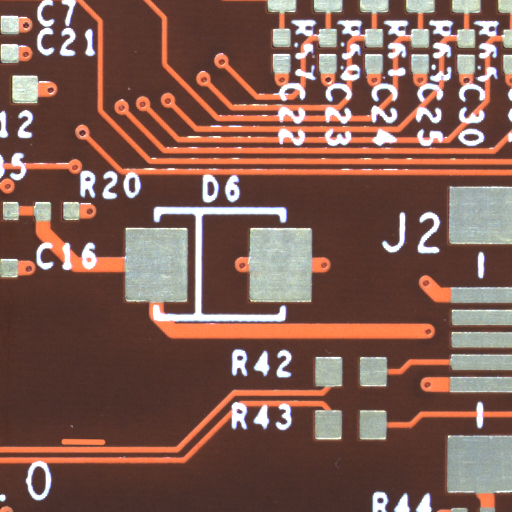Spurious_copper: (84, 442, 130, 450)
